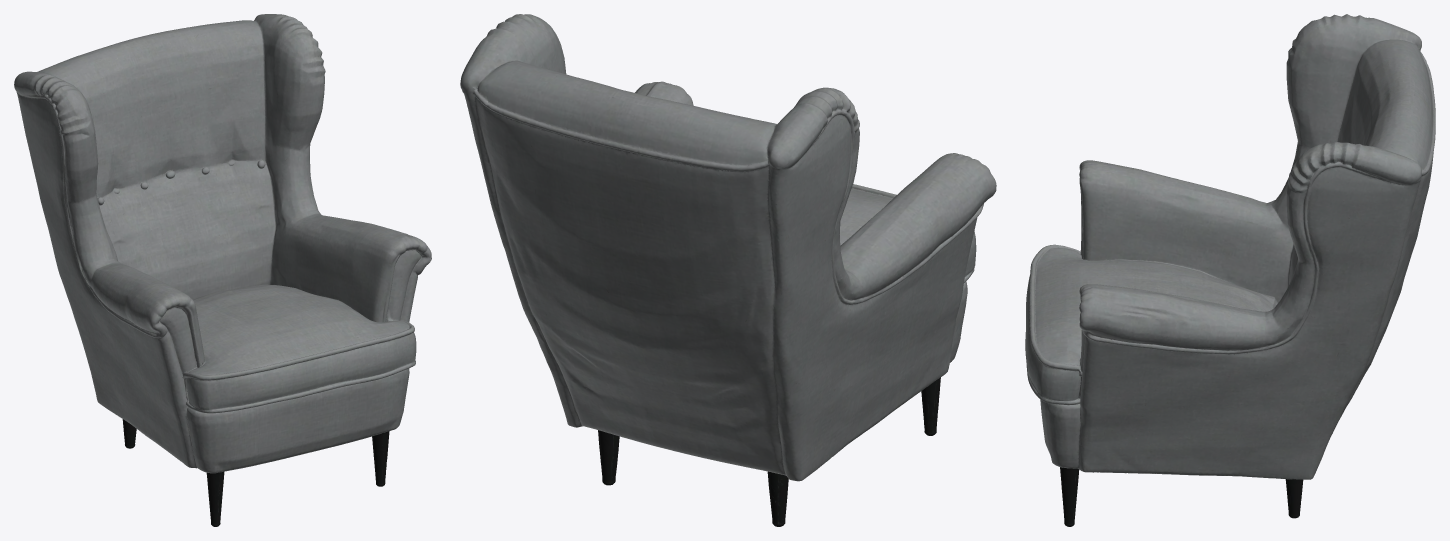
The picture shows the model from 3 angles, left to right: view 1: azimuth 30°, elevation 25°; view 2: azimuth 150°, elevation 25°; view 3: azimuth 270°, elevation 25°; orthographic projection. The views are drawn at different scales.
Parts seen in each view (by area): view 1: geometry_0; view 2: geometry_0; view 3: geometry_0.
Part boxes in pixels (left/top/right/bottom): geometry_0: left=14, top=14, right=431, bottom=526; geometry_0: left=460, top=14, right=996, bottom=526; geometry_0: left=1025, top=14, right=1435, bottom=526.
Size of the model in its own units: 0.7053 by 0.8756 by 0.8114.
1 material, 1 textured.
